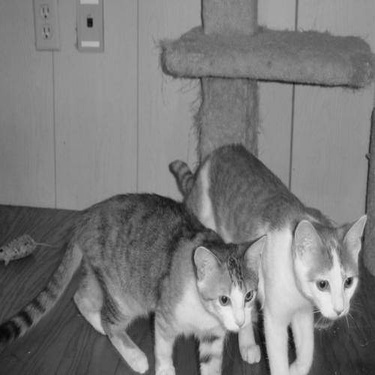cat: (1, 194, 269, 368), (166, 141, 370, 369)
